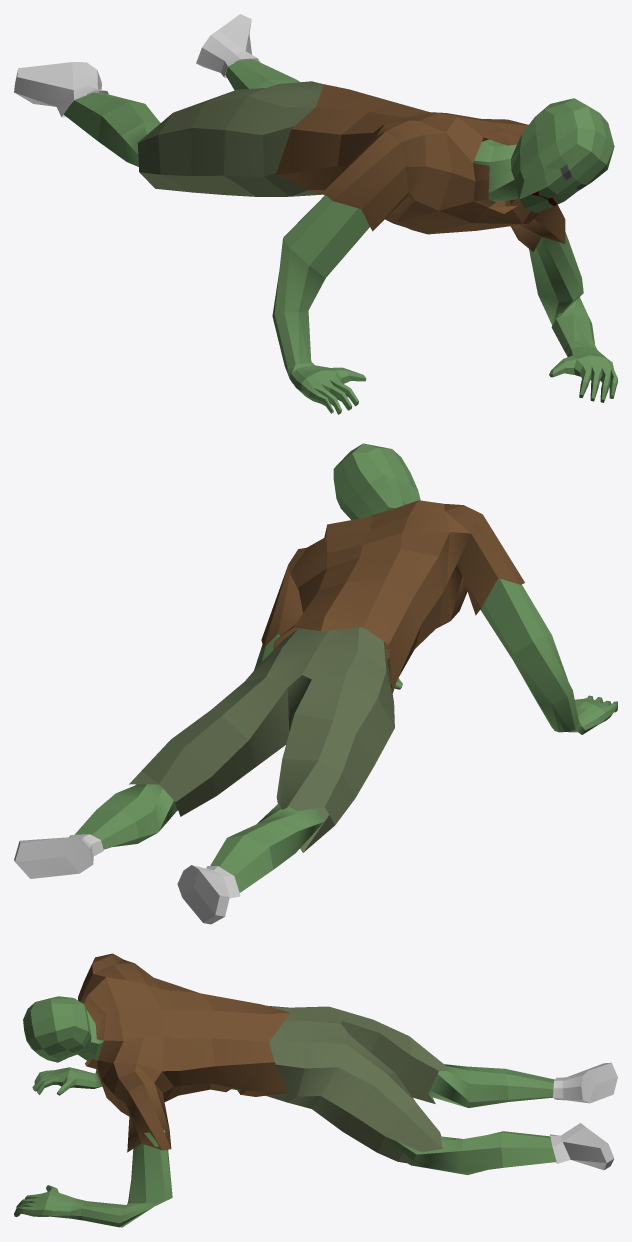
File: ZombieCrawl(139).obj
3 renders of one model, top to bottom at view 1: azimuth 30°, elevation 25°; view 2: azimuth 150°, elevation 25°; view 3: azimuth 270°, elevation 25°, orthographic. The views are drawn at different scales.
Parts seen in each view (by area): view 1: Object001; view 2: Object001; view 3: Object001.
Part boxes in pixels (bbox=[...]): Object001: bbox=[14, 14, 617, 414]; Object001: bbox=[14, 443, 617, 924]; Object001: bbox=[14, 953, 617, 1227].
Size of the model in its own units: 28.62 by 23.01 by 58.39.
